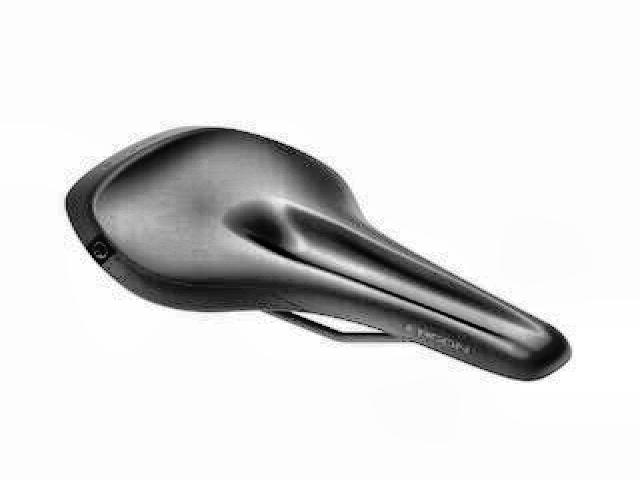saddle: (64, 123, 576, 384)
